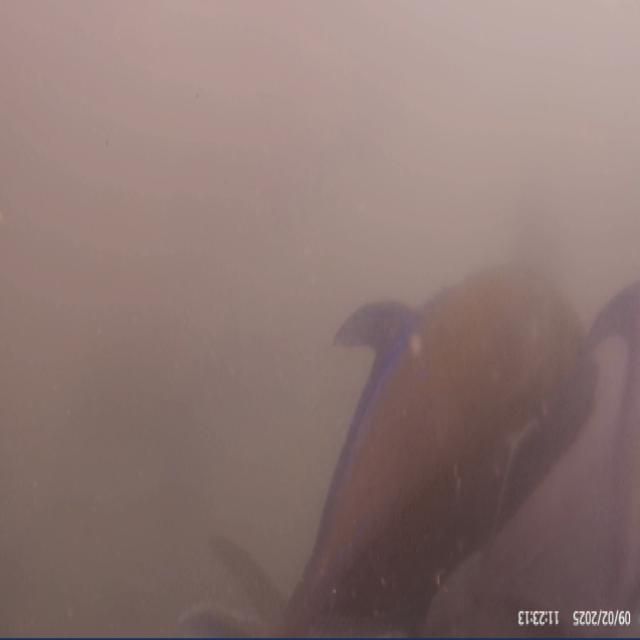ikan: (282, 258, 630, 635)
